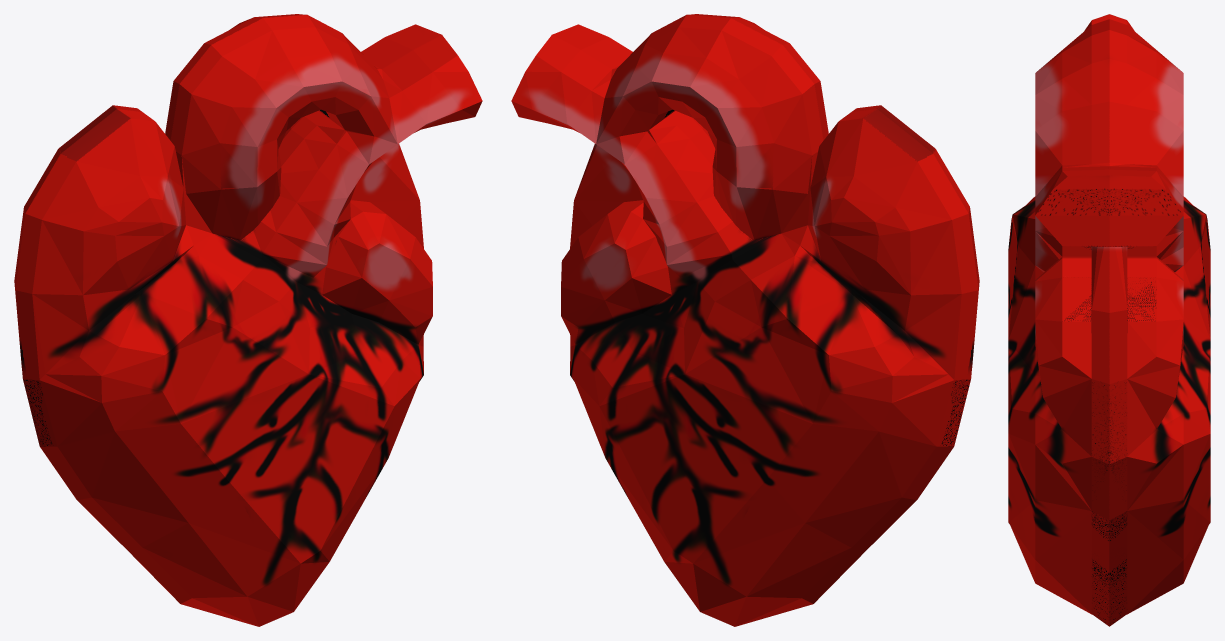
Rendered from heart.fbx.
3 renders of one model, left to right at view 1: azimuth 30°, elevation 25°; view 2: azimuth 150°, elevation 25°; view 3: azimuth 270°, elevation 25°, orthographic.
Visible parts, largest first — view 1: Plane; view 2: Plane; view 3: Plane.
Part boxes in pixels (<box>): Plane: <box>14,14,482,626</box>; Plane: <box>511,14,979,626</box>; Plane: <box>1008,14,1210,626</box>.
Size of the model in its own units: 329 by 426 by 132.
1 material, 1 textured.
